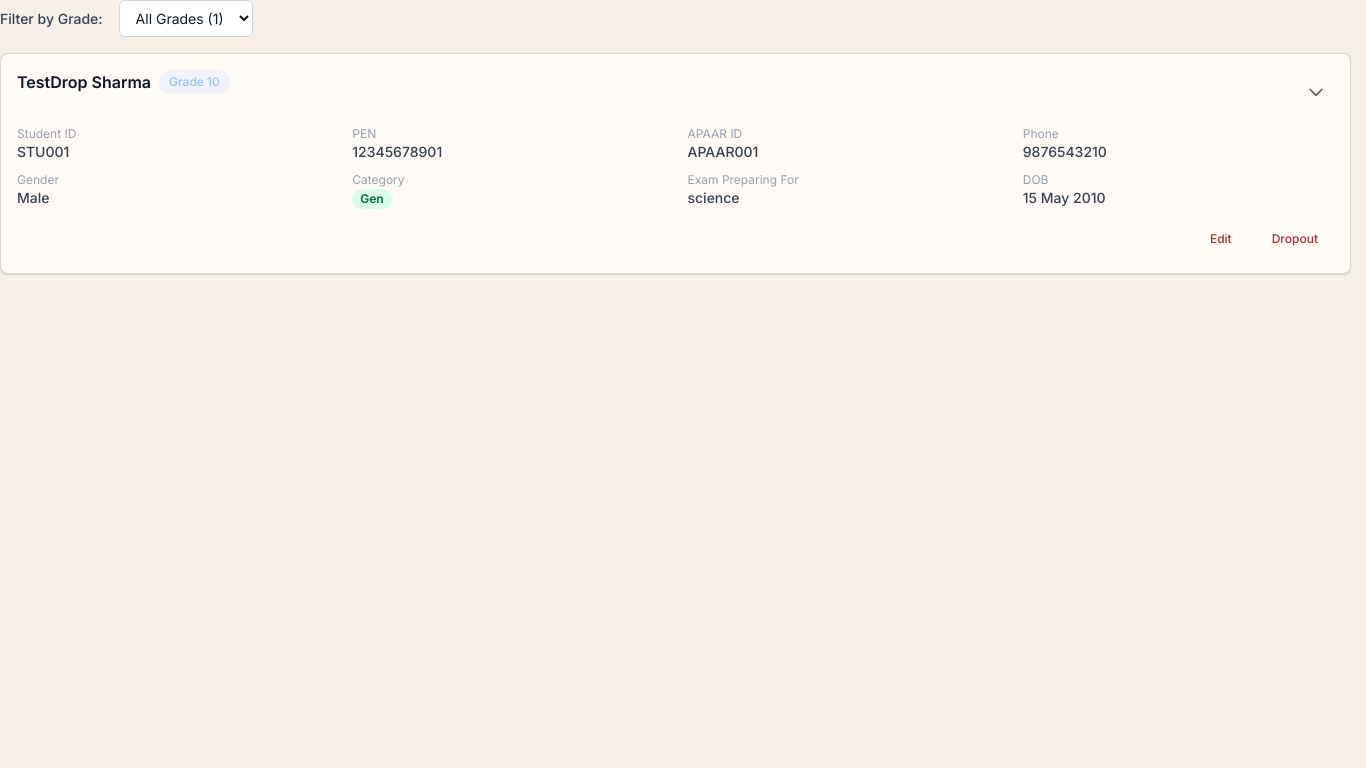
Test: StudentTable - Dropout button › opens dropout modal on Dropout click
Click the button "Dropout": (1295, 239) [1256,221,1334,257]
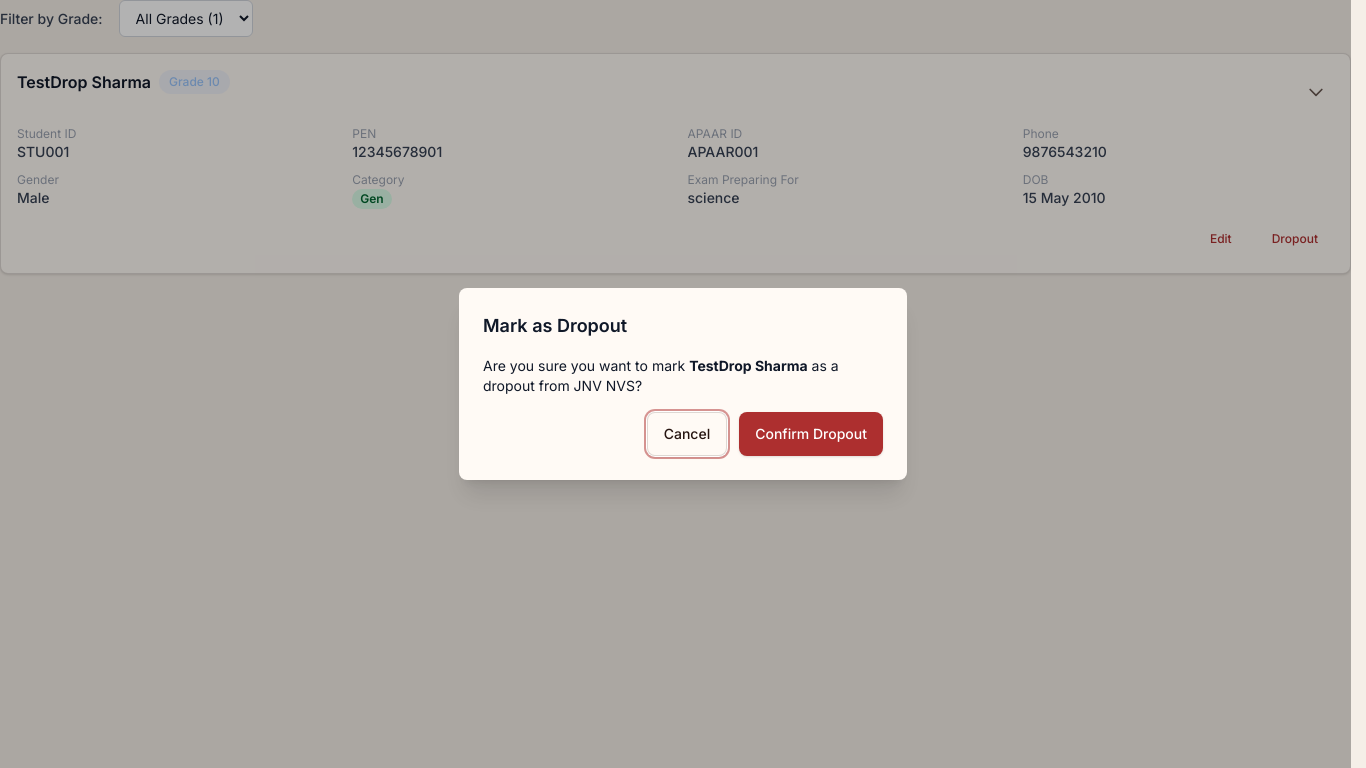
Check: the heading "Mark as Dropout" is shown, box [483,315,627,336]
Check: the button "Confirm Dropout" is shown, box [739,412,883,456]
